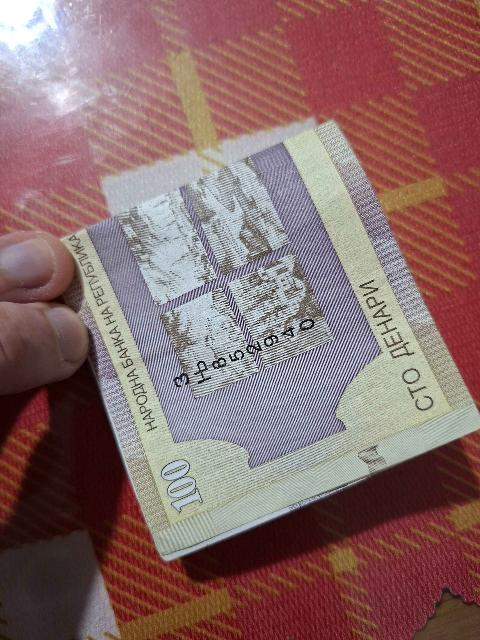note: (64, 123, 479, 559)
